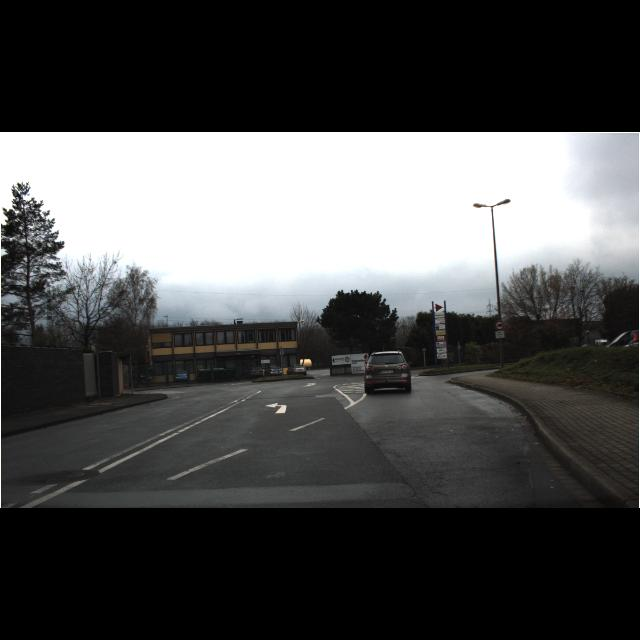prohibitory: (494, 320, 504, 330)
